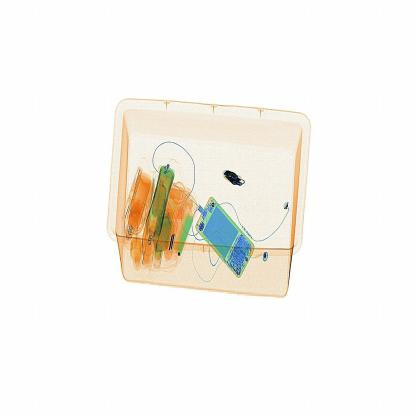scissors: (220, 166, 251, 198)
